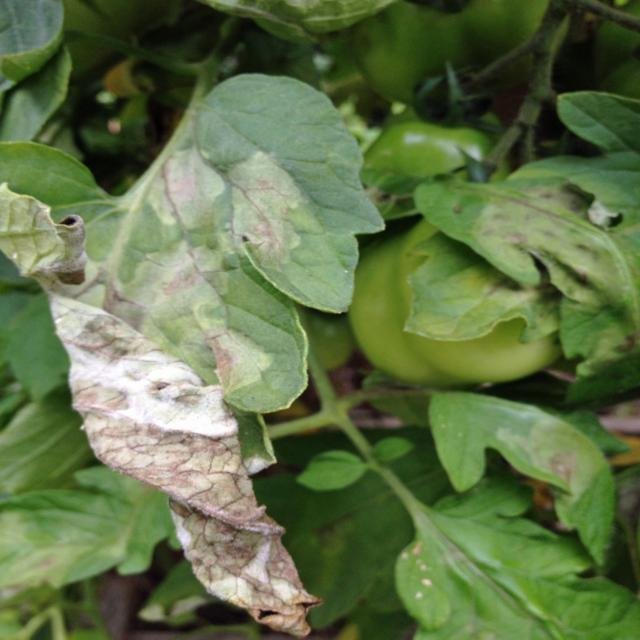Late_blight: (1, 184, 322, 640), (480, 186, 624, 302), (226, 150, 306, 265), (522, 421, 607, 512), (139, 146, 224, 235)
